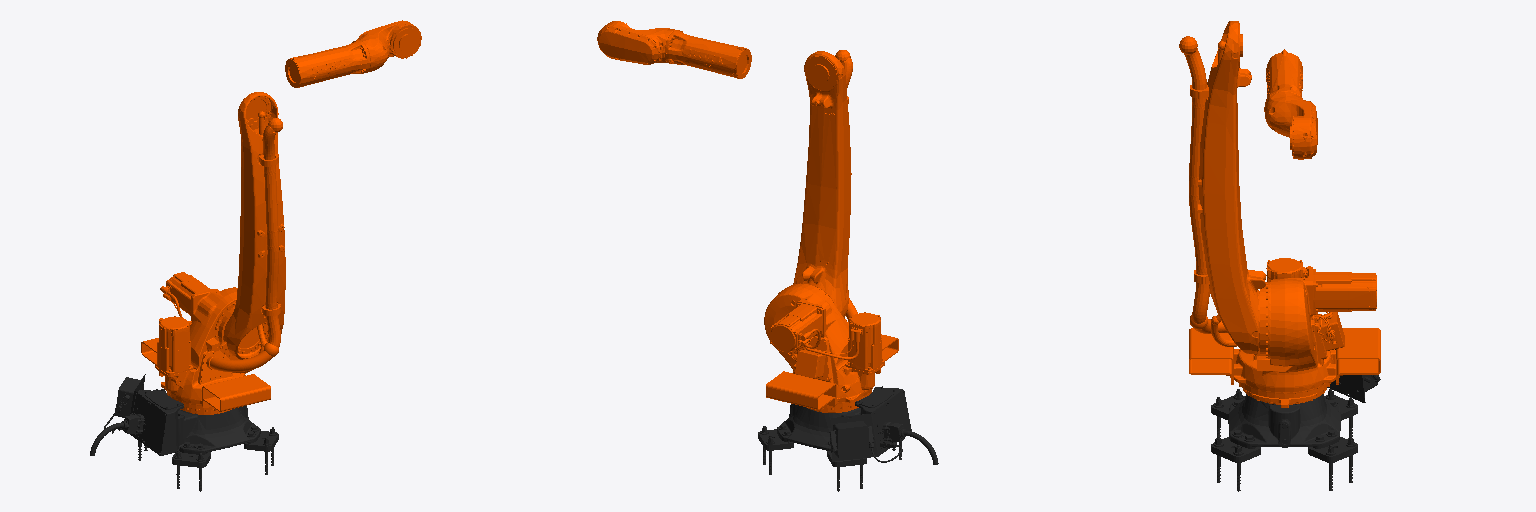
robot.urdf — kuka_kr_50_r2500_f:
<?xml version="1.0"?>
<robot name="kuka_kr_50_r2500_f">
  <material name="kuka_orange"><color rgba="1.00 0.40 0.00 1.0"/></material>
  <material name="kuka_dark_gray"><color rgba="0.20 0.20 0.20 1.0"/></material>

  <link name="base_link">
    <inertial>
      <origin xyz="-0.130731 0.039433 0.073320" rpy="0 0 0"/>
      <mass value="88.889"/>
      <inertia ixx="2.041341" ixy="0.355971" ixz="0.389219" iyy="2.881282" iyz="-0.117553" izz="4.031897"/>
    </inertial>
    <visual>
      <origin xyz="0 0 0" rpy="0 0 0"/>
      <geometry><mesh filename="meshes/visual/base_link.stl"/></geometry>
      <material name="kuka_dark_gray"/>
    </visual>
    <collision>
      <origin xyz="0 0 0" rpy="0 0 0"/>
      <geometry><mesh filename="meshes/visual/base_link.stl"/></geometry>
    </collision>
  </link>

  <link name="link_1">
    <inertial>
      <origin xyz="0.017099 0.016420 0.428944" rpy="0 0 0"/>
      <mass value="116.667"/>
      <inertia ixx="4.834116" ixy="0.017624" ixz="-0.256518" iyy="2.905745" iyz="-0.338911" izz="4.390601"/>
    </inertial>
    <visual>
      <origin xyz="0 0 0" rpy="0 0 0"/>
      <geometry><mesh filename="meshes/visual/link_1.stl"/></geometry>
      <material name="kuka_orange"/>
    </visual>
    <collision>
      <origin xyz="0 0 0" rpy="0 0 0"/>
      <geometry><mesh filename="meshes/visual/link_1.stl"/></geometry>
    </collision>
  </link>

  <link name="link_2">
    <inertial>
      <origin xyz="0.001960 -0.257165 0.572910" rpy="0 0 0"/>
      <mass value="144.444"/>
      <inertia ixx="18.515500" ixy="0.002517" ixz="0.154021" iyy="18.275458" iyz="1.102654" izz="1.207064"/>
    </inertial>
    <visual>
      <origin xyz="0 0 0" rpy="0 0 0"/>
      <geometry><mesh filename="meshes/visual/link_2.stl"/></geometry>
      <material name="kuka_orange"/>
    </visual>
    <collision>
      <origin xyz="0 0 0" rpy="0 0 0"/>
      <geometry><mesh filename="meshes/visual/link_2.stl"/></geometry>
    </collision>
  </link>

  <link name="link_3">
    <inertial>
      <origin xyz="0.031579 -0.004186 0.106608" rpy="0 0 0"/>
      <mass value="111.111"/>
      <inertia ixx="2.655813" ixy="0.656233" ixz="0.232764" iyy="3.535046" iyz="-0.166216" izz="3.939919"/>
    </inertial>
    <visual>
      <origin xyz="0 0 0" rpy="0 0 0"/>
      <geometry><mesh filename="meshes/visual/link_3.stl"/></geometry>
      <material name="kuka_orange"/>
    </visual>
    <collision>
      <origin xyz="0 0 0" rpy="0 0 0"/>
      <geometry><mesh filename="meshes/visual/link_3.stl"/></geometry>
    </collision>
  </link>

  <link name="link_4">
    <inertial>
      <origin xyz="-0.297957 0.030765 0.000278" rpy="0 0 0"/>
      <mass value="25.000"/>
      <inertia ixx="0.133978" ixy="-0.108415" ixz="0.000990" iyy="0.895039" iyz="0.000133" izz="0.911703"/>
    </inertial>
    <visual>
      <origin xyz="0 0 0" rpy="0 0 0"/>
      <geometry><mesh filename="meshes/visual/link_4.stl"/></geometry>
      <material name="kuka_orange"/>
    </visual>
    <collision>
      <origin xyz="0 0 0" rpy="0 0 0"/>
      <geometry><mesh filename="meshes/visual/link_4.stl"/></geometry>
    </collision>
  </link>

  <link name="link_5">
    <inertial>
      <origin xyz="0.051044 -0.024891 -0.000215" rpy="0 0 0"/>
      <mass value="22.222"/>
      <inertia ixx="0.104627" ixy="-0.014304" ixz="-0.000714" iyy="0.156539" iyz="0.000145" izz="0.161374"/>
    </inertial>
    <visual>
      <origin xyz="0 0 0" rpy="0 0 0"/>
      <geometry><mesh filename="meshes/visual/link_5.stl"/></geometry>
      <material name="kuka_orange"/>
    </visual>
    <collision>
      <origin xyz="0 0 0" rpy="0 0 0"/>
      <geometry><mesh filename="meshes/visual/link_5.stl"/></geometry>
    </collision>
  </link>

  <link name="link_6">
    <inertial>
      <origin xyz="-0.018091 0.000079 0.000102" rpy="0 0 0"/>
      <mass value="13.889"/>
      <inertia ixx="0.035147" ixy="-0.000005" ixz="-0.000024" iyy="0.025877" iyz="-0.000041" izz="0.026173"/>
    </inertial>
    <visual>
      <origin xyz="0 0 0" rpy="0 0 0"/>
      <geometry><mesh filename="meshes/visual/link_6.stl"/></geometry>
      <material name="kuka_dark_gray"/>
    </visual>
    <collision>
      <origin xyz="0 0 0" rpy="0 0 0"/>
      <geometry><mesh filename="meshes/visual/link_6.stl"/></geometry>
    </collision>
  </link>

  <link name="tool0"/>

  <joint name="joint_a1" type="revolute">
    <parent link="base_link"/>
    <child link="link_1"/>
    <origin xyz="0.000000 0.000000 0.000000" rpy="0 0 0"/>
    <axis xyz="0.0 0.0 -1.0"/>
    <limit lower="-3.228859" upper="3.228859" effort="3611.1" velocity="3.000000"/>
    <dynamics damping="5.0" friction="1.0"/>
  </joint>

  <joint name="joint_a2" type="revolute">
    <parent link="link_1"/>
    <child link="link_2"/>
    <origin xyz="0.175000 0.000000 0.575000" rpy="0 0 0"/>
    <axis xyz="0.0 1.0 0.0"/>
    <limit lower="-1.483530" upper="2.617994" effort="4166.7" velocity="3.000000"/>
    <dynamics damping="5.0" friction="1.0"/>
  </joint>

  <joint name="joint_a3" type="revolute">
    <parent link="link_2"/>
    <child link="link_3"/>
    <origin xyz="0.000000 0.000000 1.290000" rpy="0 0 0"/>
    <axis xyz="0.0 1.0 0.0"/>
    <limit lower="-3.665191" upper="1.308997" effort="2777.8" velocity="3.000000"/>
    <dynamics damping="5.0" friction="1.0"/>
  </joint>

  <joint name="joint_a4" type="revolute">
    <parent link="link_3"/>
    <child link="link_4"/>
    <origin xyz="1.035000 0.000000 0.050000" rpy="0 0 0"/>
    <axis xyz="-1.0 0.0 -0.0"/>
    <limit lower="-3.141593" upper="3.141593" effort="1111.1" velocity="3.000000"/>
    <dynamics damping="5.0" friction="1.0"/>
  </joint>

  <joint name="joint_a5" type="revolute">
    <parent link="link_4"/>
    <child link="link_5"/>
    <origin xyz="0.000000 0.000000 0.000000" rpy="0 0 0"/>
    <axis xyz="0.0 1.0 0.0"/>
    <limit lower="-2.181662" upper="2.181662" effort="777.8" velocity="3.000000"/>
    <dynamics damping="5.0" friction="1.0"/>
  </joint>

  <joint name="joint_a6" type="revolute">
    <parent link="link_5"/>
    <child link="link_6"/>
    <origin xyz="0.185000 0.000000 0.000000" rpy="0 0 0"/>
    <axis xyz="-1.0 0.0 -0.0"/>
    <limit lower="-6.108652" upper="6.108652" effort="472.2" velocity="3.000000"/>
    <dynamics damping="5.0" friction="1.0"/>
  </joint>

  <joint name="link_6-tool0" type="fixed">
    <parent link="link_6"/>
    <child link="tool0"/>
    <origin xyz="0.000000 0.000000 0.000000" rpy="0 1.57079632679 0"/>
  </joint>
</robot>

--- Facts derived from the render (not from the file) ---
Views: 3 orthographic renders of the robot side by side, from view 1: azimuth 30°, elevation 25°; view 2: azimuth 150°, elevation 25°; view 3: azimuth 270°, elevation 25°.
Model kuka_kr_50_r2500_f with 8 links and 7 joints (6 revolute, 1 fixed), rooted at base_link, posed every joint at zero.
Links seen in each view (by area): view 1: link_2, link_1, base_link, link_4; view 2: link_1, link_2, base_link, link_4; view 3: link_1, link_2, base_link, link_4.
Boxes of the visible links, box(x1,y1,x2,y2) form: link_2: box(219, 92, 285, 359); link_1: box(141, 272, 278, 414); base_link: box(90, 374, 278, 491); link_4: box(285, 20, 421, 87); link_1: box(764, 283, 898, 412); link_2: box(793, 50, 852, 320); base_link: box(758, 386, 938, 491); link_4: box(597, 21, 751, 78); link_1: box(1189, 258, 1380, 407); link_2: box(1179, 21, 1265, 353); base_link: box(1211, 349, 1380, 491); link_4: box(1264, 49, 1317, 159).
Bounding box of the posed robot: 1.96 × 0.8586 × 2.18 m (x, y, z).
Meshes: 7 distinct files referenced, 4 mesh visuals loaded (4 binary STL); not drawn: 3 (reference not matched to a file when rendering).
